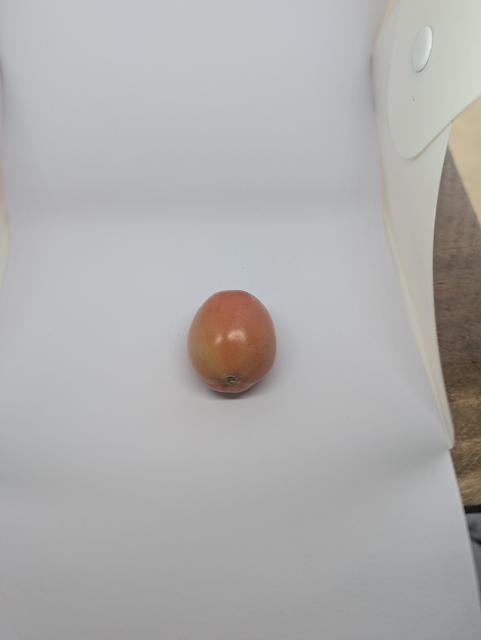turning: (184, 285, 286, 398)
